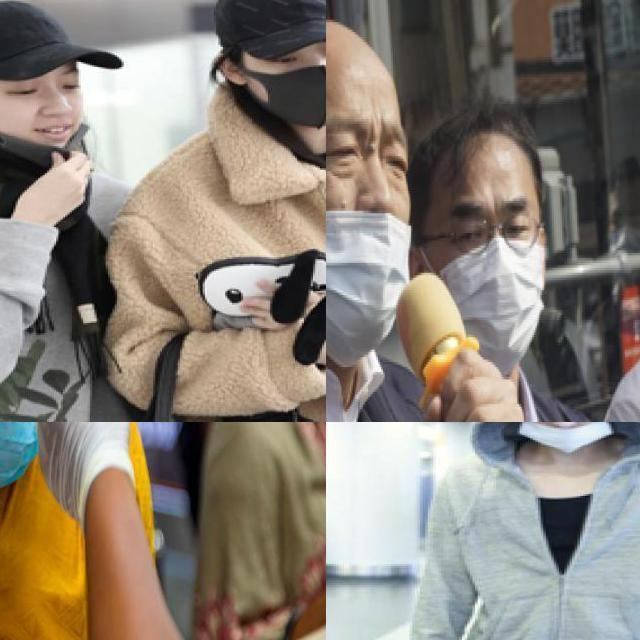hairnet: (327, 167, 412, 365), (2, 94, 85, 162)
